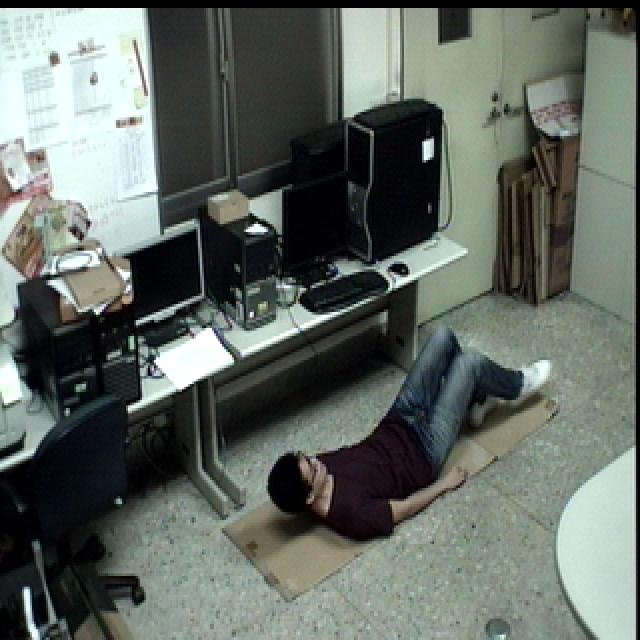lie: (261, 322, 566, 552)
